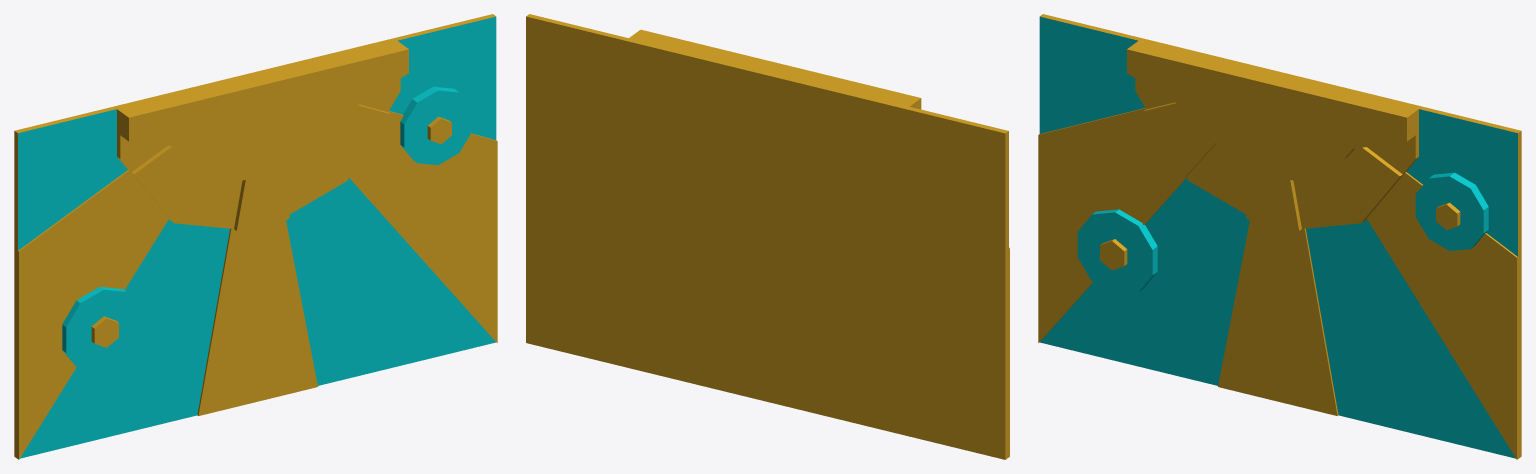
Rendered from Prop_Jungle_Temple_Ornament_Sun_Plaque_Gold_Gem_02.FBX.
3 views of the same model, side by side, from view 1: azimuth 30°, elevation 25°; view 2: azimuth 150°, elevation 25°; view 3: azimuth 330°, elevation 25° (orthographic).
Parts seen in each view (by area): view 1: Prop_Jungle_Temple_Ornament_Sun_Plaque_Gold_Gem_02; view 2: Prop_Jungle_Temple_Ornament_Sun_Plaque_Gold_Gem_02; view 3: Prop_Jungle_Temple_Ornament_Sun_Plaque_Gold_Gem_02.
Boxes of the visible parts, x1=… form: Prop_Jungle_Temple_Ornament_Sun_Plaque_Gold_Gem_02: x1=14, y1=14, x2=497, y2=459; Prop_Jungle_Temple_Ornament_Sun_Plaque_Gold_Gem_02: x1=526, y1=14, x2=1009, y2=459; Prop_Jungle_Temple_Ornament_Sun_Plaque_Gold_Gem_02: x1=1038, y1=14, x2=1521, y2=459.
Bounding box in the file's own units: 1415 × 921 × 78.1.
